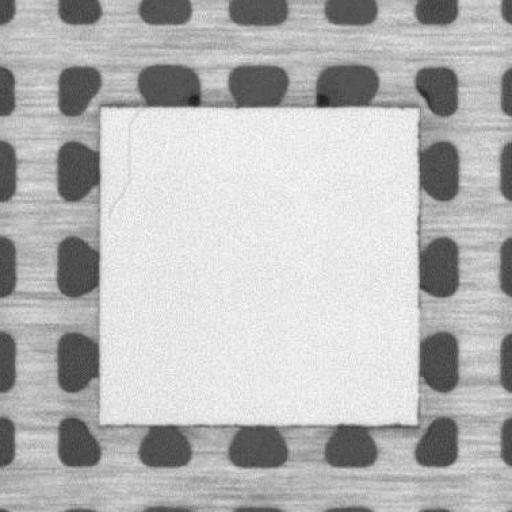DIE_CRACK: (110, 106, 142, 218)
